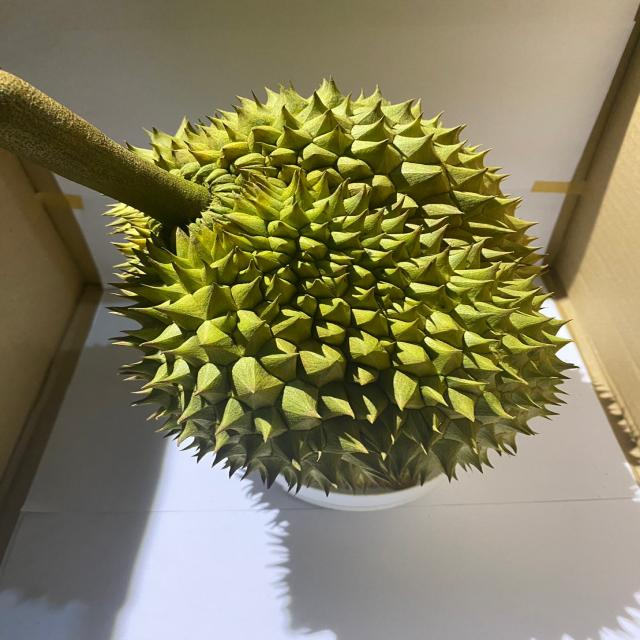immature: (95, 69, 582, 495)
